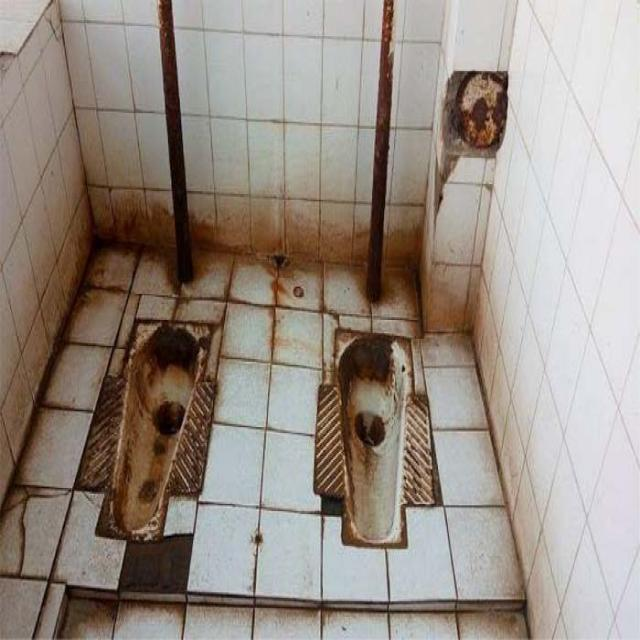dirty_floor: (0, 239, 529, 639), (471, 0, 639, 639)
